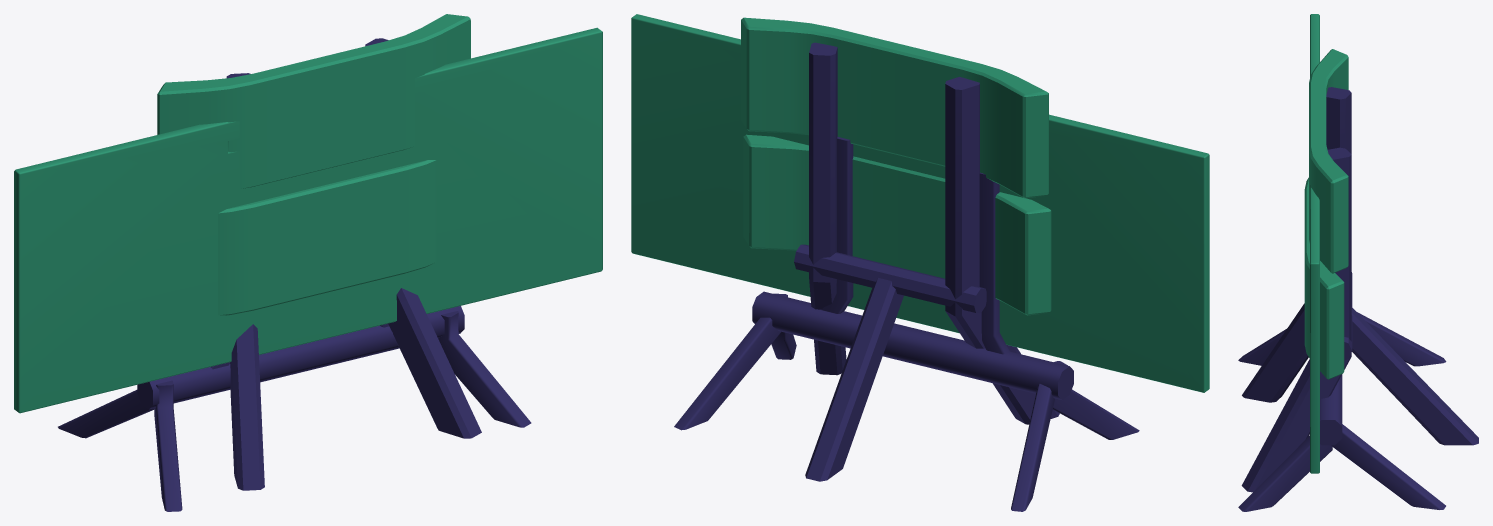
Rendered from Barriers.fbx.
3 renders of one model, left to right at view 1: azimuth 30°, elevation 25°; view 2: azimuth 150°, elevation 25°; view 3: azimuth 270°, elevation 25°, orthographic. The views are drawn at different scales.
Parts seen in each view (by area): view 1: bar2_lod0, bar1_lod0; view 2: bar2_lod0, bar1_lod0; view 3: bar1_lod0, bar2_lod0.
Boxes of the visible parts, x1,y1,x2,y2 form: bar2_lod0: (14,27,602,511); bar1_lod0: (157,14,481,490); bar2_lod0: (631,14,1209,511); bar1_lod0: (741,17,1059,481); bar1_lod0: (1241,49,1478,492); bar2_lod0: (1238,14,1446,511).
Size of what is drawn, in the model's own units: 1.95 by 1.18 by 0.7931.
